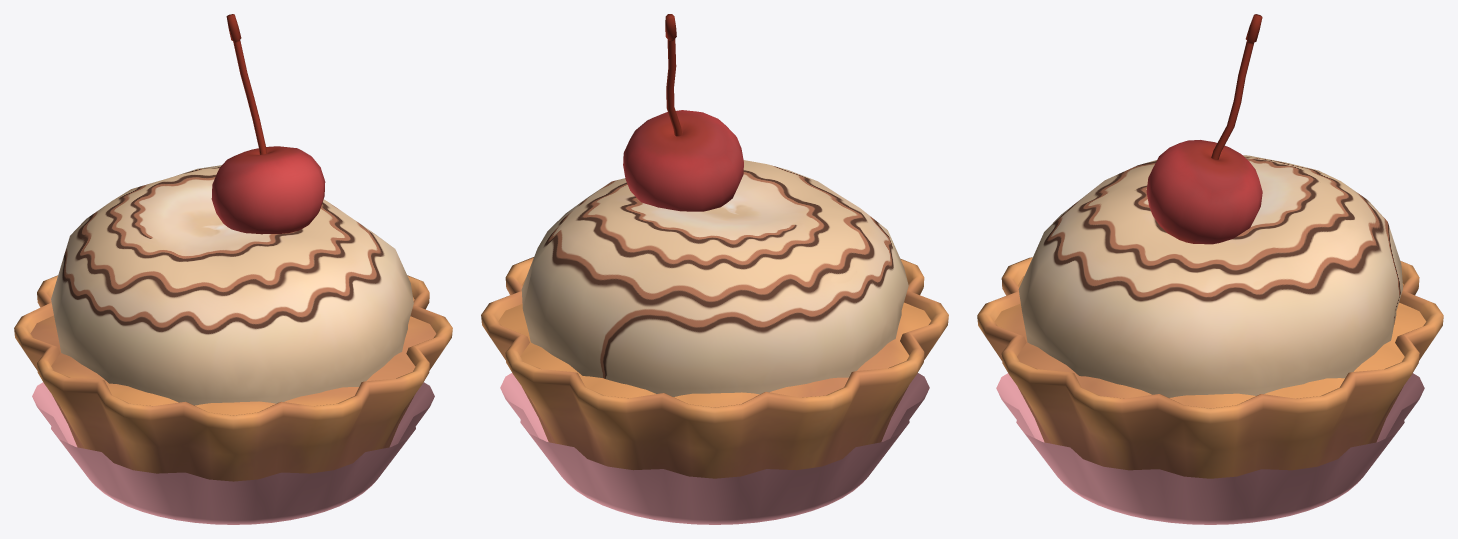
File: cupcake_cherry_0.fbx
The picture shows the model from 3 angles, left to right: view 1: azimuth 30°, elevation 25°; view 2: azimuth 150°, elevation 25°; view 3: azimuth 270°, elevation 25°; orthographic projection. The views are drawn at different scales.
Visible parts, largest first — view 1: cake_basket_cherry; view 2: cake_basket_cherry; view 3: cake_basket_cherry.
Part boxes in pixels (<box>): cake_basket_cherry: <box>14,14,452,524</box>; cake_basket_cherry: <box>481,14,948,524</box>; cake_basket_cherry: <box>977,14,1443,524</box>.
Size of the model in its own units: 11.97 by 12.82 by 11.96.
